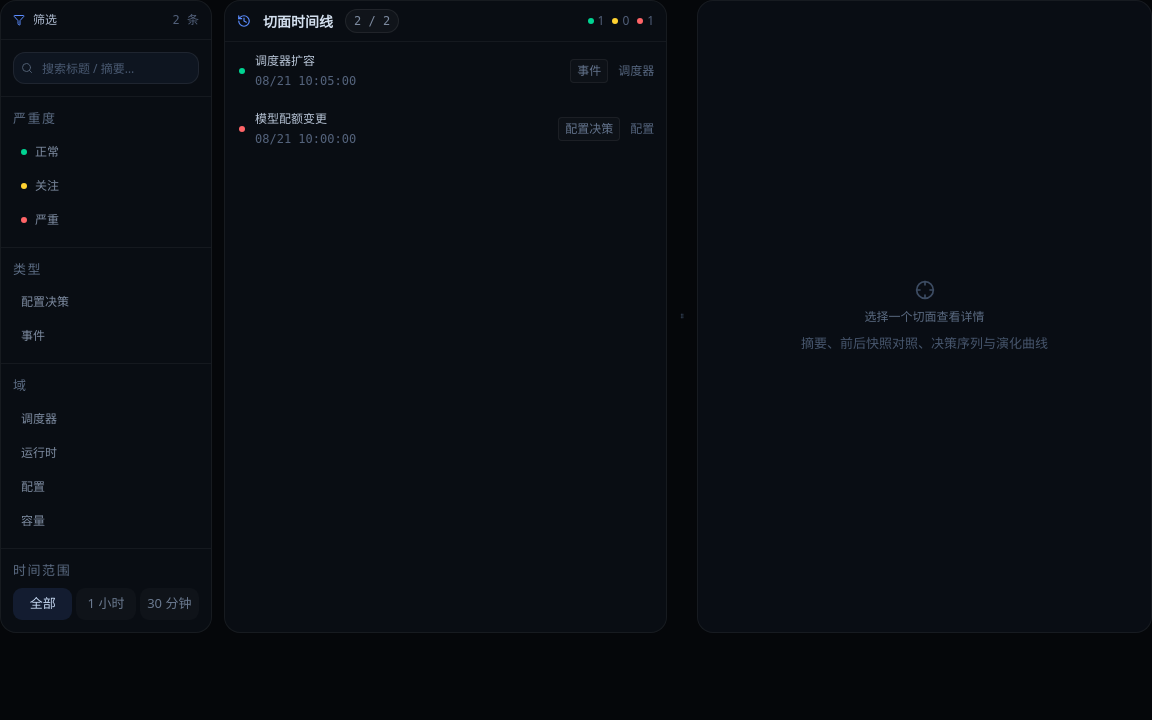
Test case: TraceWorkbench › 按严重度筛选并清除
Step 1. Click the button "严重" → (106, 220), box [13,204,199,234]
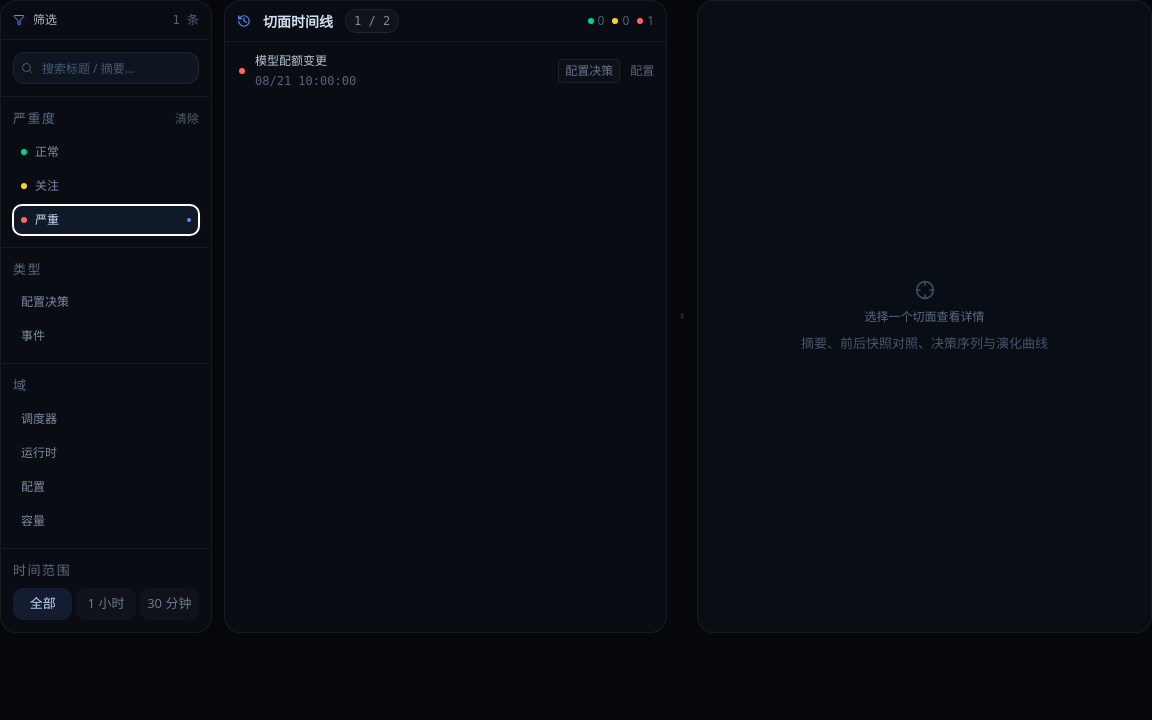
expect the button "调度器扩容" is gone: met
Step 2. Click the button "清除" → (187, 119), box [175,110,199,128]
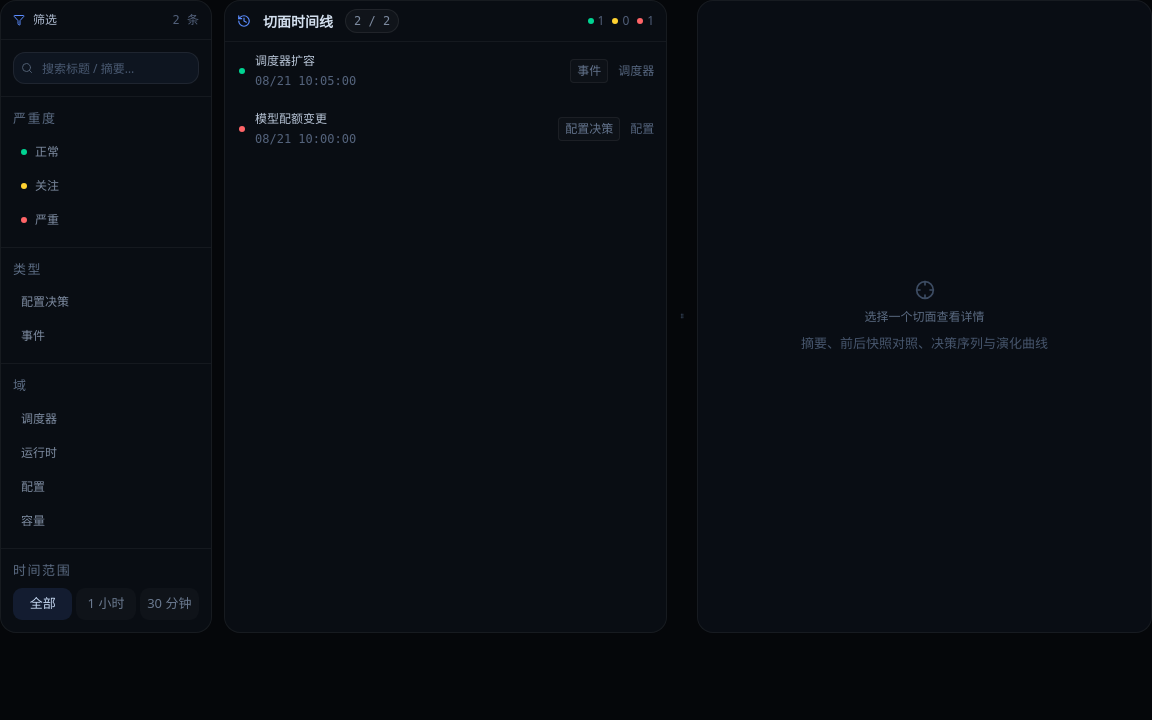
expect the text "调度器扩容" is shown: met, box [255,52,315,69]
